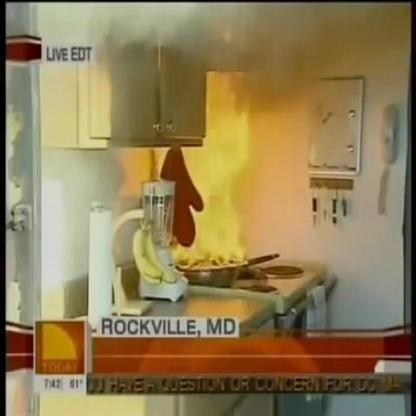fire: (181, 118, 252, 268)
